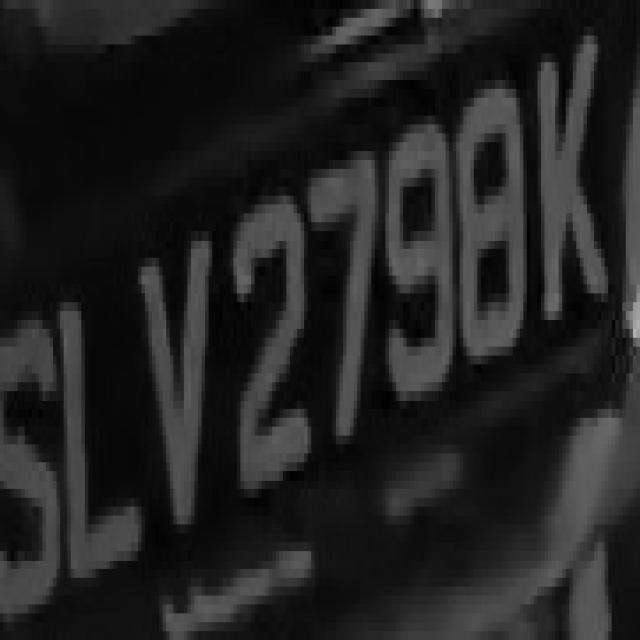2: (226, 178, 318, 498)
7: (300, 160, 382, 489)
8: (452, 80, 530, 418)
9: (368, 116, 456, 391)
K: (530, 9, 619, 373)
L: (64, 231, 142, 605)
V: (131, 187, 216, 498)
